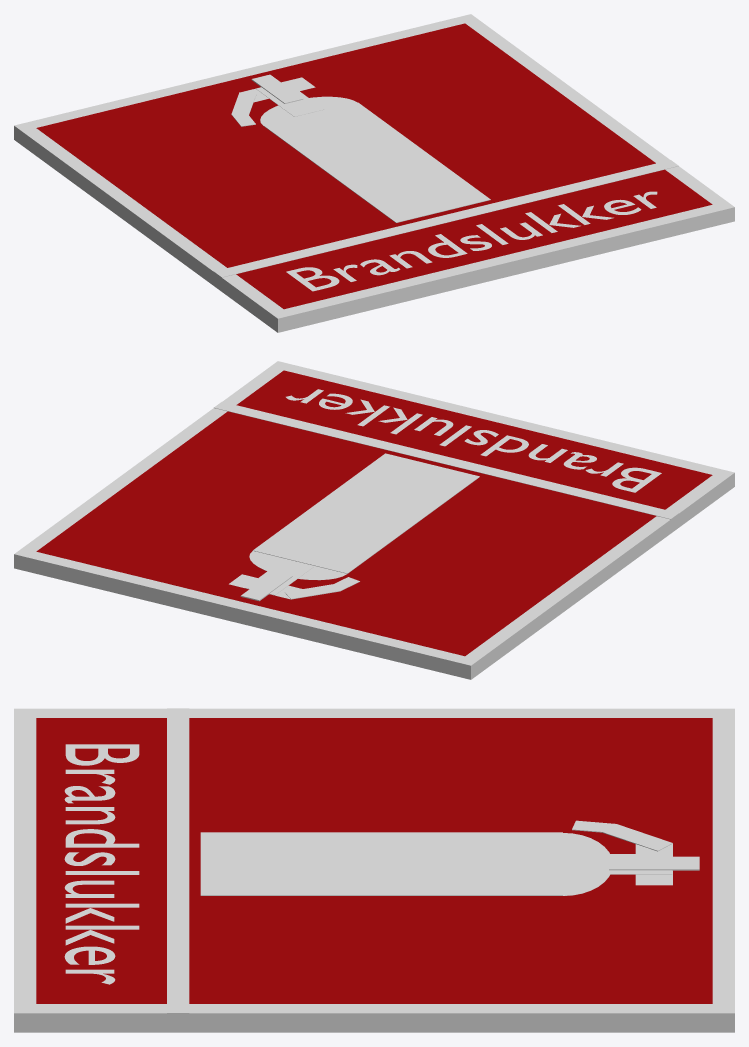
Rendered from BrandslukkerSkilt.fbx.
3 views of the same model, one above another, from view 1: azimuth 30°, elevation 25°; view 2: azimuth 150°, elevation 25°; view 3: azimuth 270°, elevation 25° (orthographic). The views are drawn at different scales.
Visible parts, largest first — view 1: Cube.001, Cube.009, Cube.002, Cube, Text, Cylinder, Cube.004, Cube.006; view 2: Cube.001, Cube.009, Cube.002, Cube, Text, Cylinder, Cube.004, Cube.006; view 3: Cube.001, Cube.009, Cube.002, Cube, Text, Cylinder, Cube.004, Cube.006, Cube.007, Cube.005.
Part boxes in pixels (left/top/right/bottom): Cube.001: left=36, top=23, right=712, bottom=309; Cube.009: left=14, top=14, right=734, bottom=332; Cube.002: left=263, top=102, right=490, bottom=222; Cube: left=213, top=160, right=678, bottom=291; Text: left=286, top=191, right=657, bottom=291; Cylinder: left=260, top=96, right=357, bottom=125; Cube.004: left=256, top=81, right=324, bottom=116; Cube.006: left=251, top=74, right=303, bottom=103; Cube.001: left=36, top=370, right=712, bottom=656; Cube.009: left=14, top=361, right=734, bottom=679; Cube.002: left=252, top=453, right=479, bottom=573; Cube: left=214, top=401, right=678, bottom=519; Text: left=286, top=389, right=661, bottom=492; Cylinder: left=249, top=551, right=346, bottom=580; Cube.004: left=245, top=559, right=313, bottom=595; Cube.006: left=240, top=571, right=292, bottom=601; Cube.001: left=36, top=718, right=712, bottom=1003; Cube.009: left=14, top=708, right=734, bottom=1032; Cube.002: left=200, top=832, right=562, bottom=895; Cube: left=167, top=708, right=189, bottom=1032; Text: left=64, top=744, right=139, bottom=984; Cylinder: left=563, top=833, right=610, bottom=895; Cube.004: left=567, top=854, right=672, bottom=874; Cube.006: left=609, top=856, right=699, bottom=870; Cube.007: left=602, top=824, right=672, bottom=851; Cube.005: left=635, top=844, right=672, bottom=885.
Bounding box in the file's own units: 200 × 6.45 × 200.
